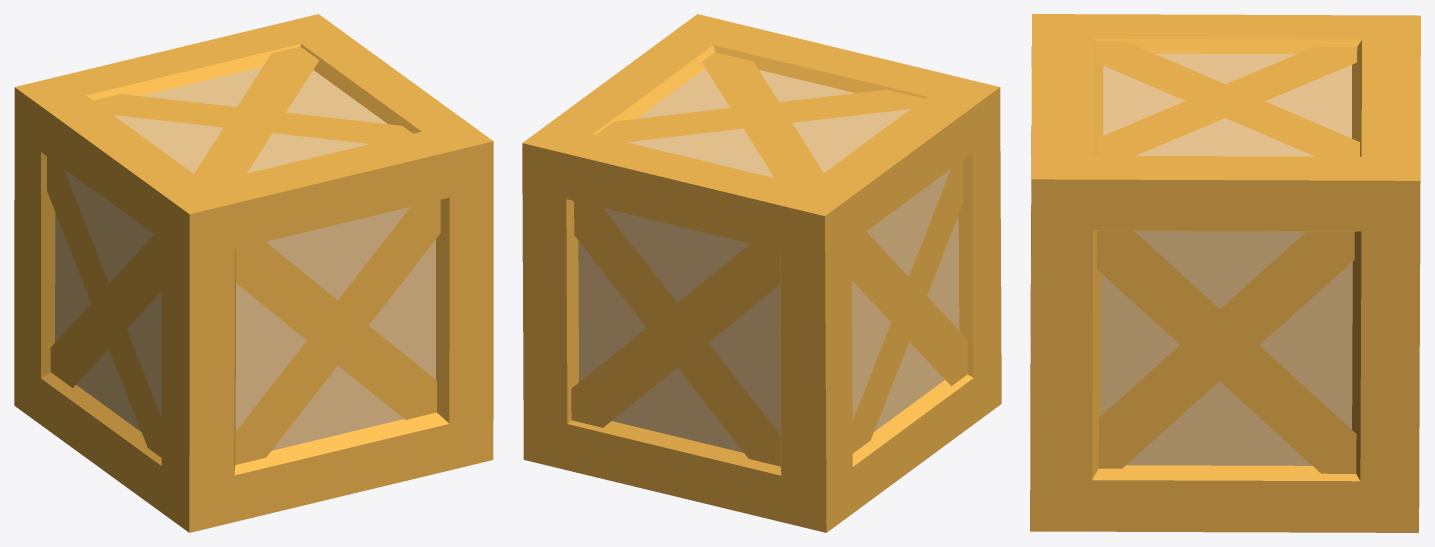
The model's file is props_040.glb.
The picture shows the model from 3 angles, left to right: view 1: azimuth 30°, elevation 25°; view 2: azimuth 150°, elevation 25°; view 3: azimuth 270°, elevation 25°; orthographic projection. The views are drawn at different scales.
Parts seen in each view (by area): view 1: props_040; view 2: props_040; view 3: props_040.
Boxes of the visible parts, x1=… form: props_040: x1=14, y1=14, x2=493, y2=532; props_040: x1=522, y1=14, x2=1001, y2=532; props_040: x1=1030, y1=14, x2=1420, y2=532.
Size of the model in its own units: 1.2 by 1.21 by 1.2.
1 material, 1 textured.
